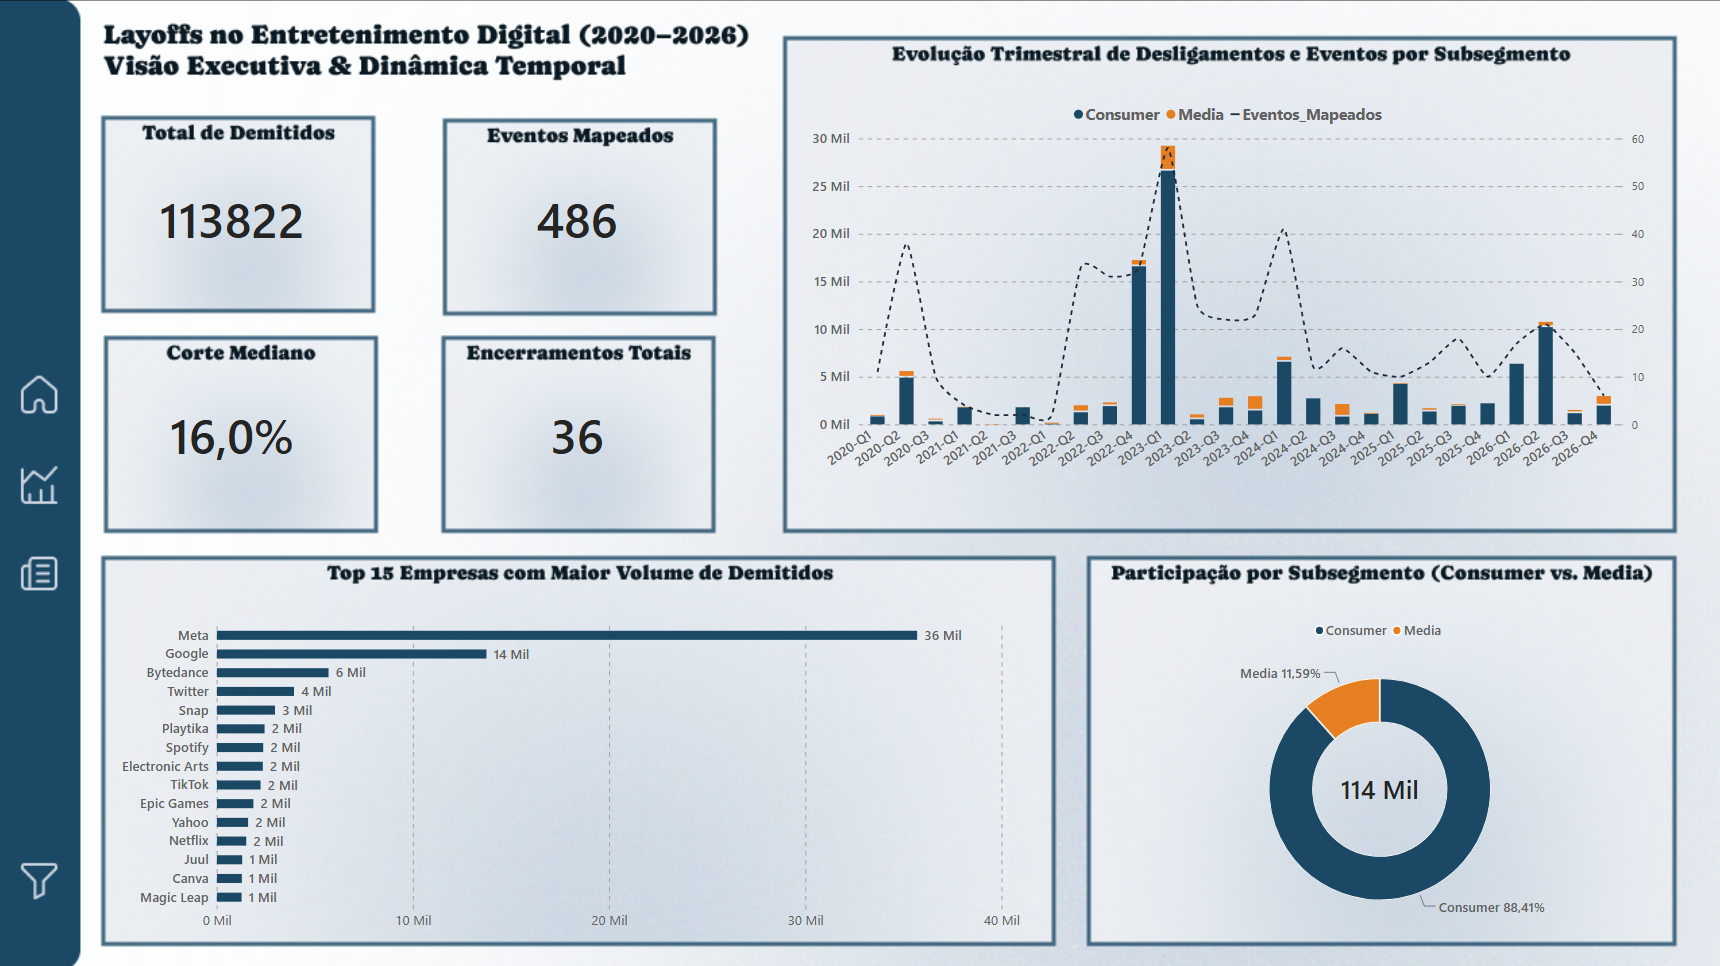

This screenshot's page, from the dashboard's own definition file:
{"tool":"powerbi","page":{"name":"Dinâmica Temporal","canvas":[1920,1080],"ordinal":1},"visuals":[{"type":"group","id":"g1","title":"Padrão","box":[0,0,1920,1080],"z":0},{"type":"image","box":[0,0,1920,1080],"z":0,"group":"g1"},{"type":"cardVisual","fields":{"Data":["Sum(vw_evolucao_temporal.total_laid_off)"]},"box":[120,144,280,200],"z":1000,"group":"g1"},{"type":"cardVisual","fields":{"Data":["layoffs.Eventos_Mapeados"]},"box":[504,144,280,200],"z":2000,"group":"g1"},{"type":"cardVisual","fields":{"Data":["Median(layoffs.percentage_laid_off)"]},"box":[120,384,280,200],"z":3000,"group":"g1"},{"type":"cardVisual","fields":{"Data":["layoffs.Encerramentos_Totais"]},"box":[504,384,280,200],"z":4000,"group":"g1"},{"type":"actionButton","title":"Painel Filtros","box":[7,945,72,72],"z":4000},{"type":"lineStackedColumnComboChart","fields":{"Category":["layoffs.Periodo_Trimestre"],"Series":["layoffs.industry"],"Y":["Sum(layoffs.total_laid_off)"],"Y2":["layoffs.Eventos_Mapeados"]},"box":[888,96,960,456],"z":5000,"group":"g1"},{"type":"actionButton","title":"Painel Navegação","box":[7,505,72,72],"z":5000},{"type":"pageNavigator","title":"Sobre o Case","box":[12,608,60,60],"z":6000},{"type":"clusteredBarChart","fields":{"Category":["layoffs.company"],"Y":["Sum(layoffs.total_laid_off)"]},"box":[120,672,1032,384],"z":6000,"group":"g1"},{"type":"pageNavigator","title":"Home","box":[22,418,60,60],"z":7000},{"type":"donutChart","fields":{"Category":["layoffs.industry"],"Y":["Sum(layoffs.total_laid_off)"]},"box":[1224,672,624,384],"z":7000,"group":"g1"}]}

Visuals, with their boxes on the page's 1920x1080 design canvas (x1, y1, x2, y2). These are canvas units, not pixel positions in the 1720x966 screenshot, which may show the page scaled, cropped or inside an application window:
"Padrão" group: bbox=[0, 0, 1920, 1080]
image: bbox=[0, 0, 1920, 1080]
cardVisual - Sum(vw_evolucao_temporal.total_laid_off): bbox=[120, 144, 400, 344]
cardVisual - layoffs.Eventos_Mapeados: bbox=[504, 144, 784, 344]
cardVisual - Median(layoffs.percentage_laid_off): bbox=[120, 384, 400, 584]
cardVisual - layoffs.Encerramentos_Totais: bbox=[504, 384, 784, 584]
"Painel Filtros" actionButton: bbox=[7, 945, 79, 1017]
lineStackedColumnComboChart - layoffs.Periodo_Trimestre x layoffs.industry: bbox=[888, 96, 1848, 552]
"Painel Navegação" actionButton: bbox=[7, 505, 79, 577]
"Sobre o Case" pageNavigator: bbox=[12, 608, 72, 668]
clusteredBarChart - layoffs.company x Sum(layoffs.total_laid_off): bbox=[120, 672, 1152, 1056]
"Home" pageNavigator: bbox=[22, 418, 82, 478]
donutChart - layoffs.industry x Sum(layoffs.total_laid_off): bbox=[1224, 672, 1848, 1056]
